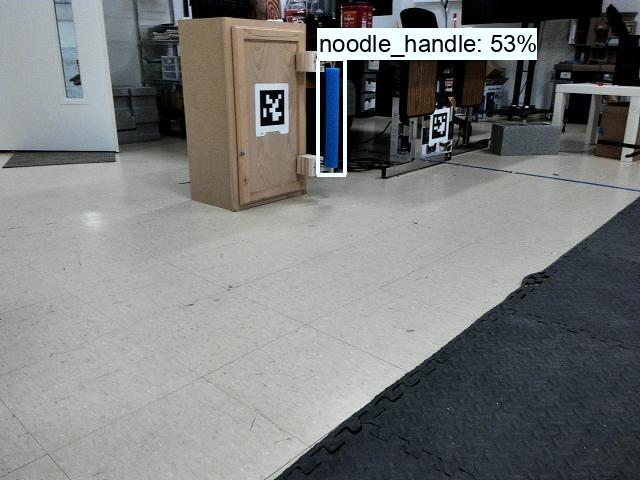noodle_handle: (319, 60, 341, 172)
